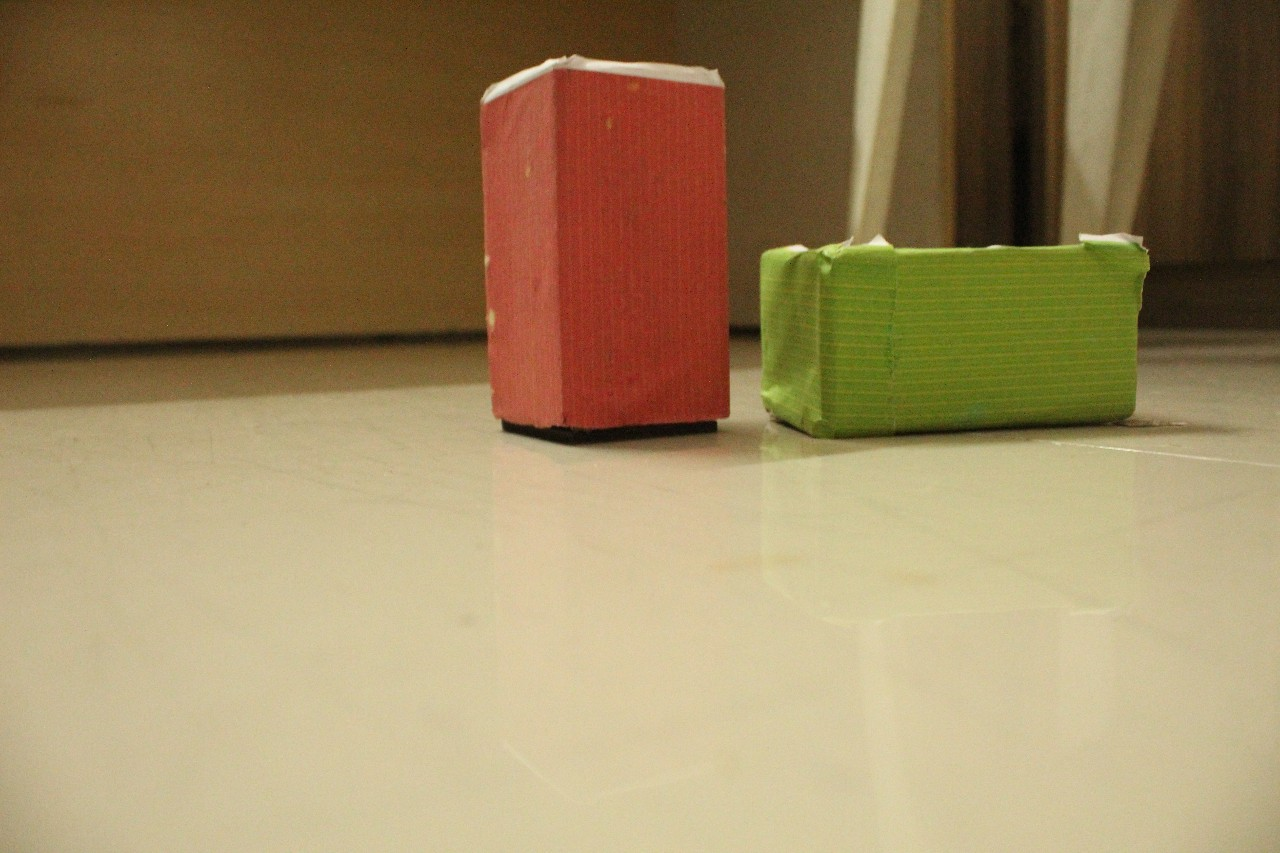green: (741, 230, 1170, 449)
red: (359, 0, 813, 474)
